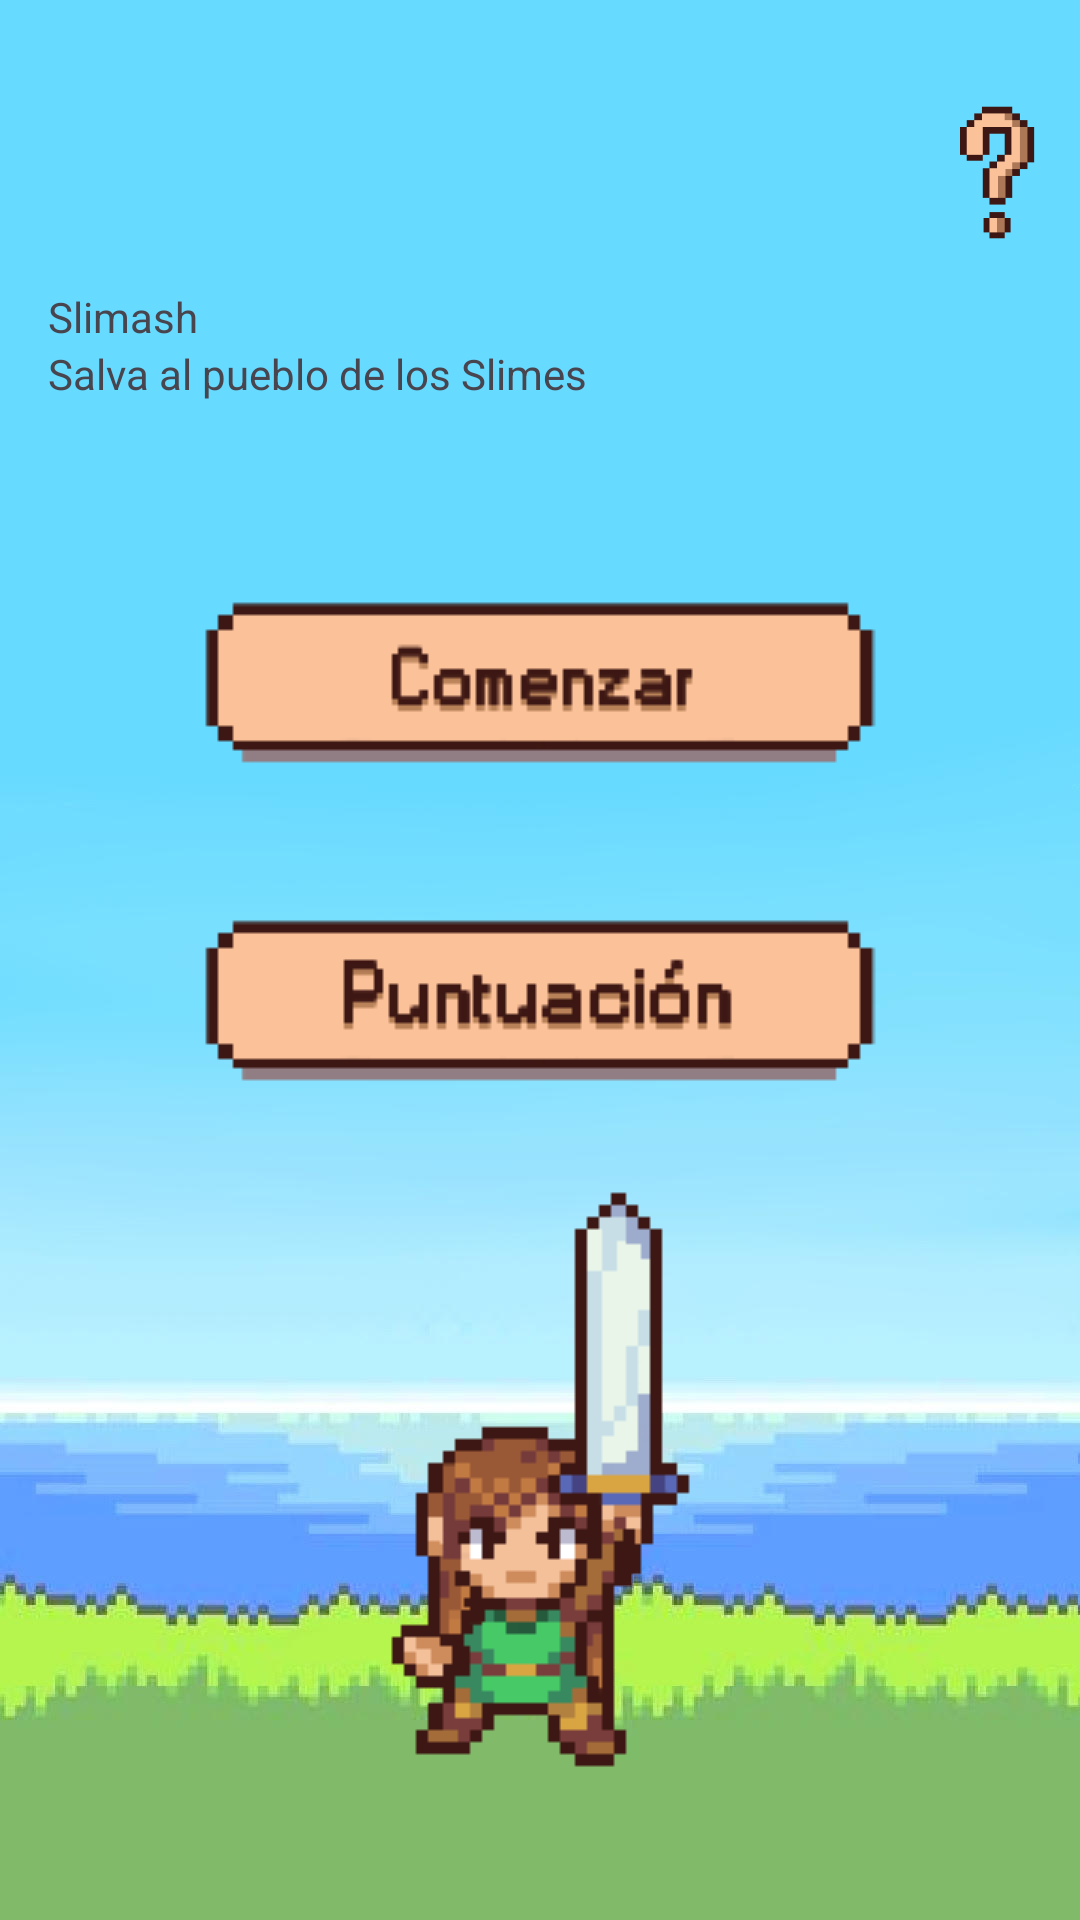

Locate icon controls on the screen. Image size 1080×1920, boxes as (x1, y1, x2, y2).
interrogacion: (960, 106, 1035, 239)
